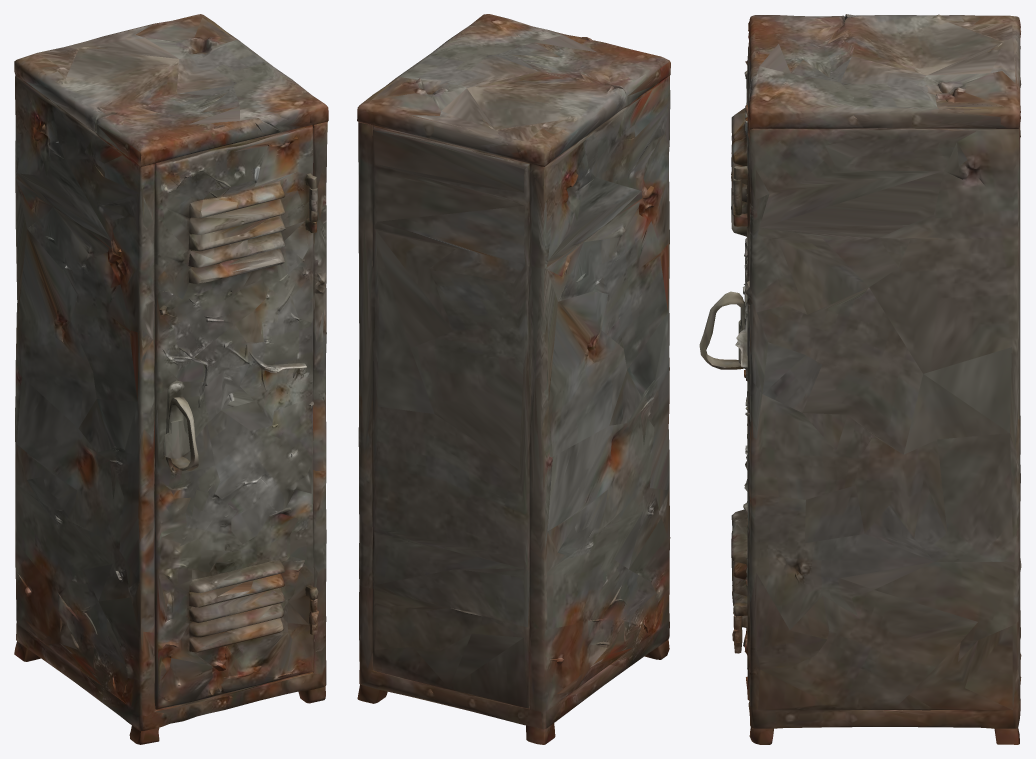
Rendered from locker_idle.glb.
3 renders of one model, left to right at view 1: azimuth 30°, elevation 25°; view 2: azimuth 150°, elevation 25°; view 3: azimuth 270°, elevation 25°, orthographic. The views are drawn at different scales.
Parts seen in each view (by area): view 1: tripo_node_06cb7711-5f0c-4ca8-add4-fc9be7227964; view 2: tripo_node_06cb7711-5f0c-4ca8-add4-fc9be7227964; view 3: tripo_node_06cb7711-5f0c-4ca8-add4-fc9be7227964.
Part boxes in pixels (x1,y1,x2,y2): tripo_node_06cb7711-5f0c-4ca8-add4-fc9be7227964: (14, 14, 328, 744); tripo_node_06cb7711-5f0c-4ca8-add4-fc9be7227964: (357, 14, 670, 744); tripo_node_06cb7711-5f0c-4ca8-add4-fc9be7227964: (699, 14, 1021, 744).
Size of the model in its own units: 0.6055 by 1.8 by 0.8221.
Materials: 1 (1 with a texture image).
